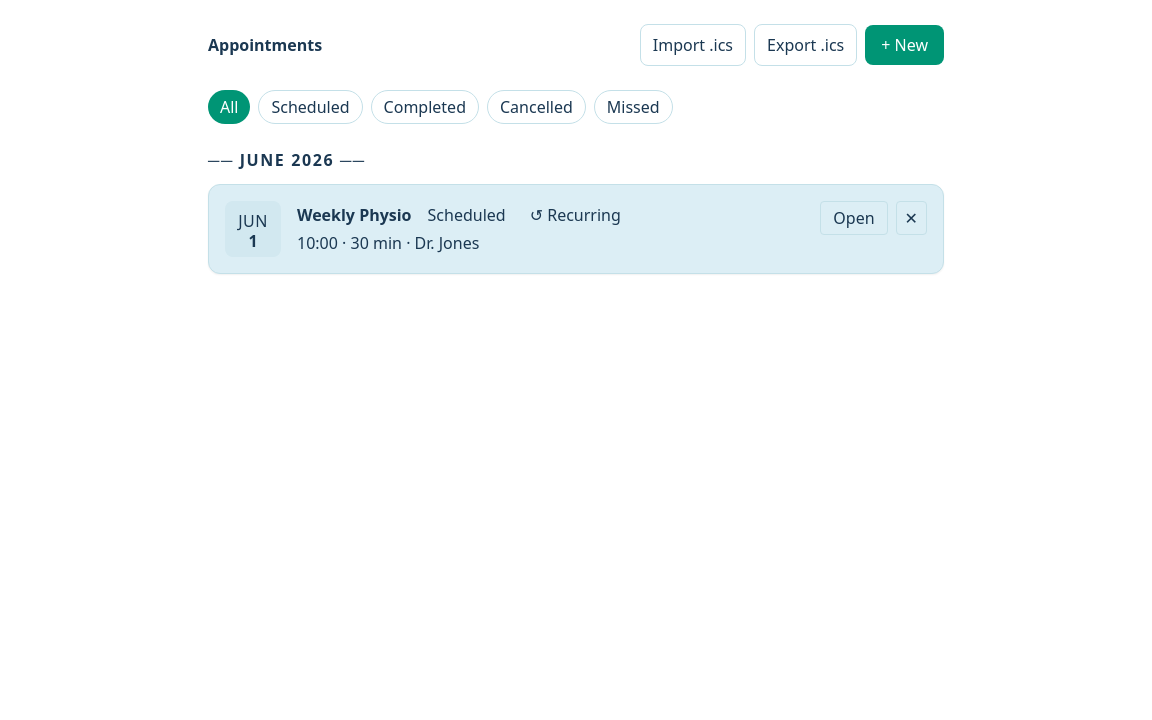
Test: Delete series confirmation modal › dismisses the modal when Cancel is clicked
Expected: the text "Weekly Physio" is shown, [297,203,412,227]
Click the button named "delete weekly physio". click: (911, 218)
box: [896,201,927,235]
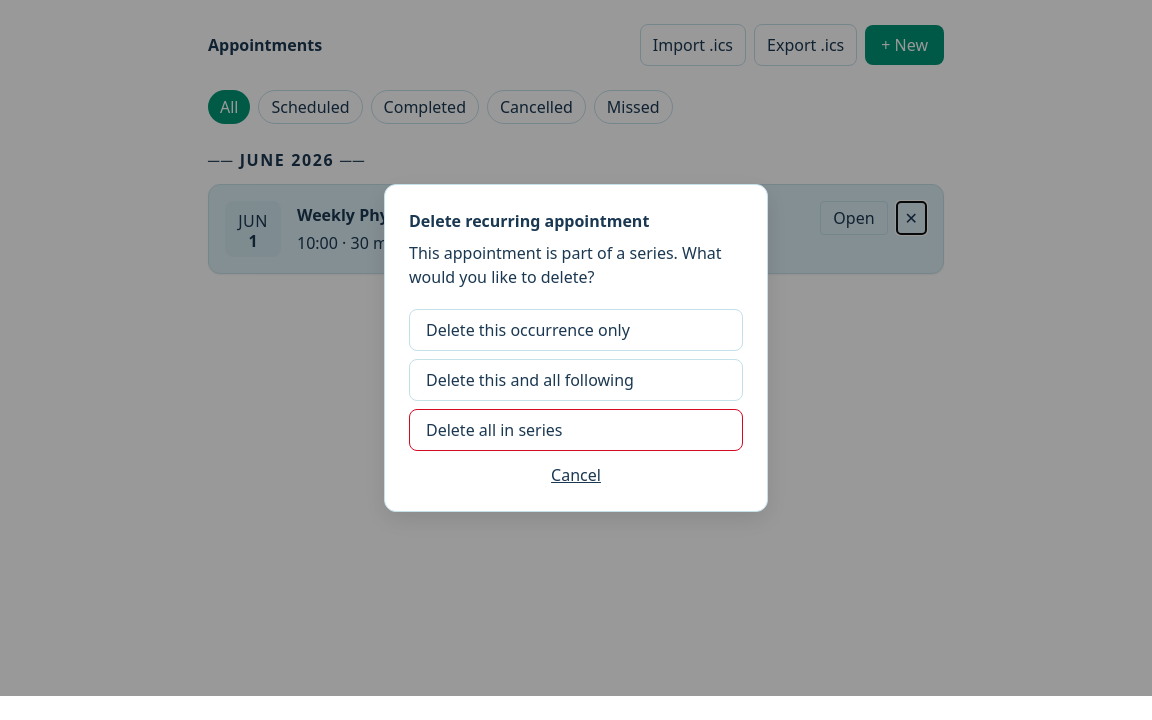
Expected: the heading "Delete recurring appointment" is shown, [409,210,649,232]
Click the button "Cancel". click: (576, 475)
box: [409,463,743,487]
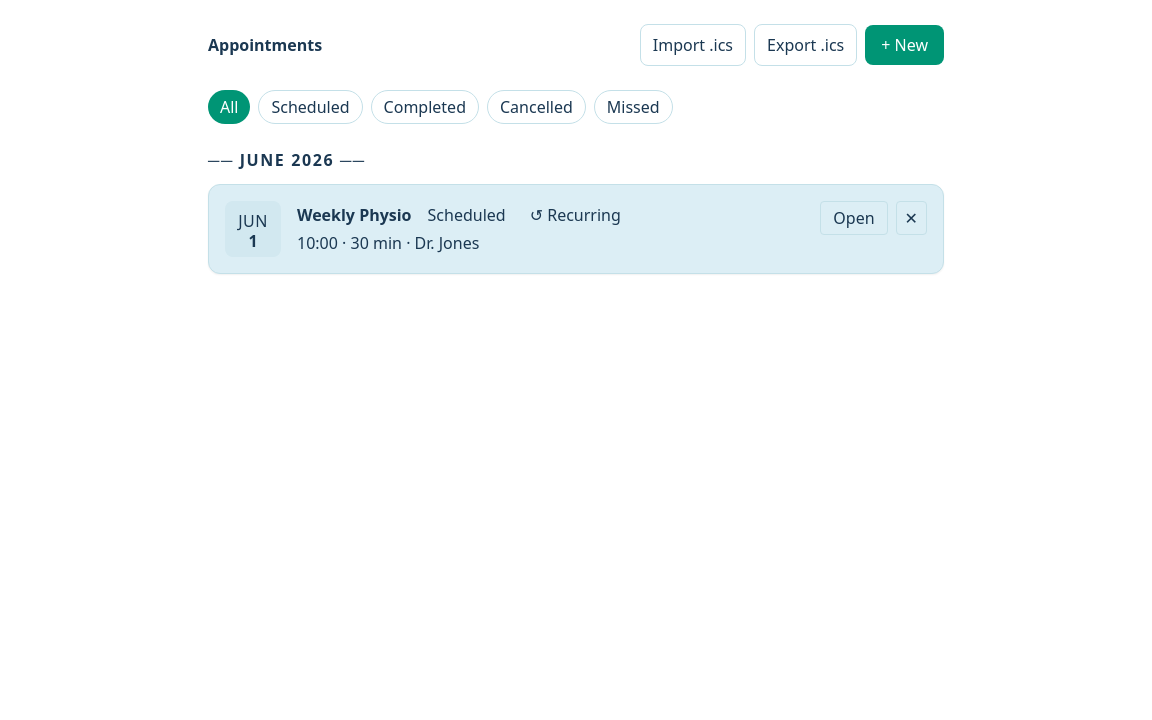
Expected: the heading "Delete recurring appointment" is gone
